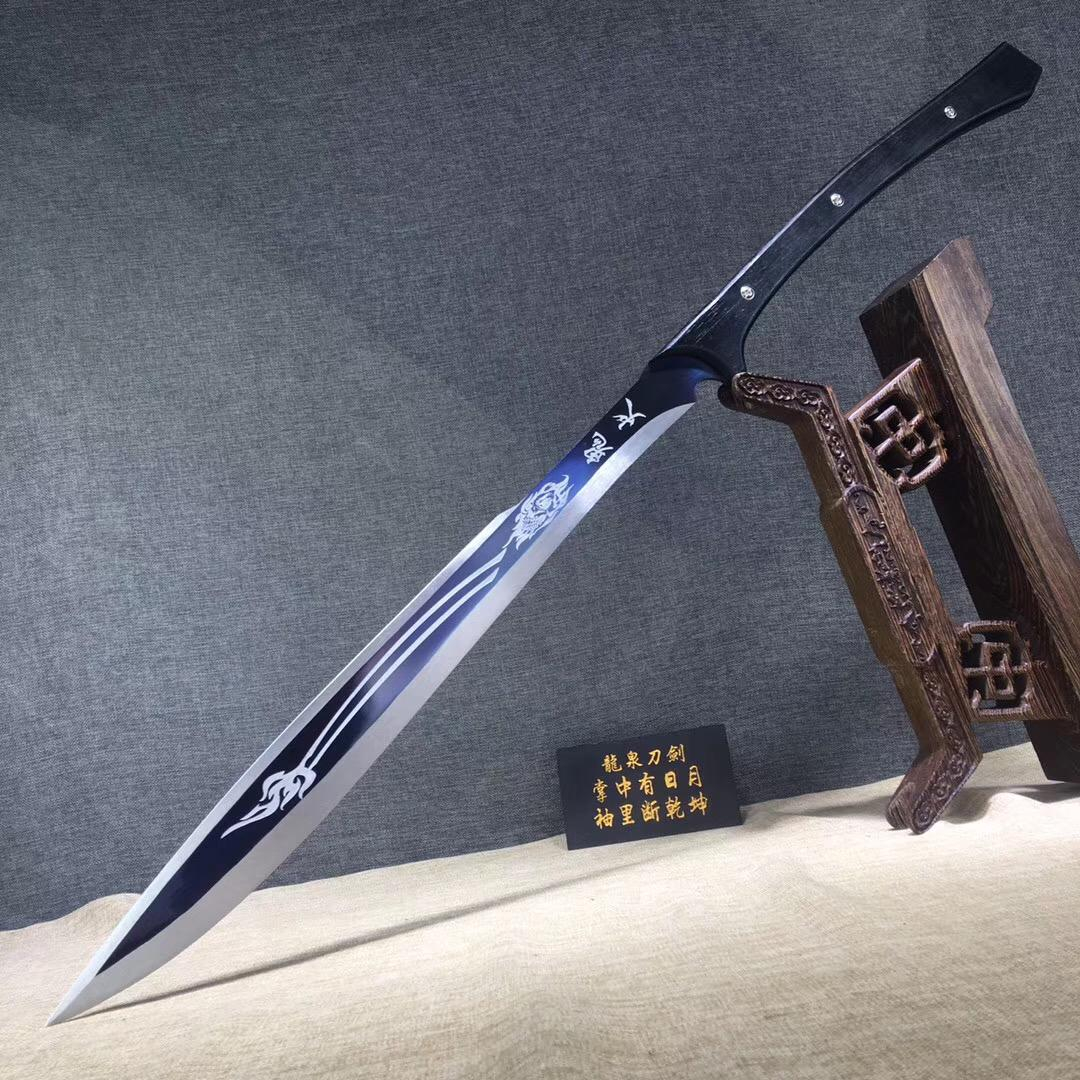knife: (15, 46, 1068, 1050)
